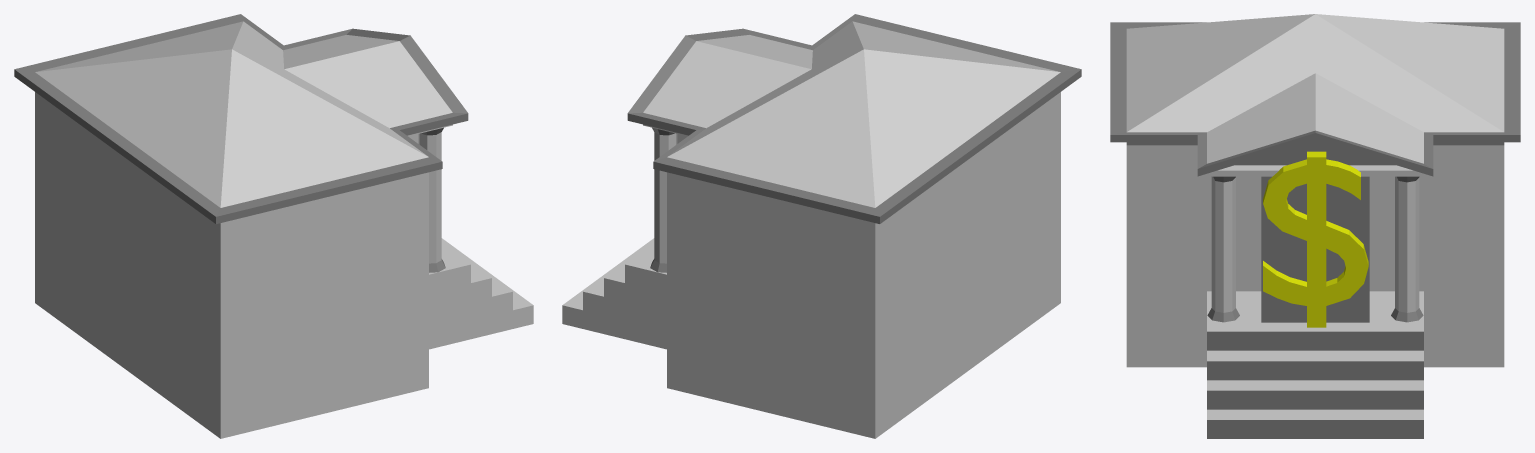
Rendered from fac_homeBase.fbx.
The picture shows the model from 3 angles, left to right: view 1: azimuth 30°, elevation 25°; view 2: azimuth 150°, elevation 25°; view 3: azimuth 270°, elevation 25°; orthographic projection.
Parts seen in each view (by area): view 1: Homebase; view 2: Homebase; view 3: Homebase.
Boxes of the visible parts, x1=… form: Homebase: x1=14, y1=14, x2=533, y2=438; Homebase: x1=562, y1=14, x2=1081, y2=438; Homebase: x1=1110, y1=14, x2=1520, y2=438.
Size of the model in its own units: 1027 by 796 by 983.
